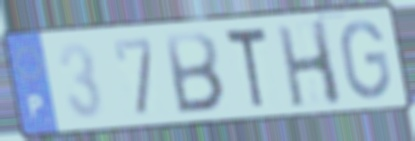3: (58, 40, 105, 123)
7: (111, 34, 157, 120)
B: (162, 29, 227, 116)
G: (338, 18, 394, 102)
H: (274, 17, 346, 110)
T: (222, 24, 270, 112)
